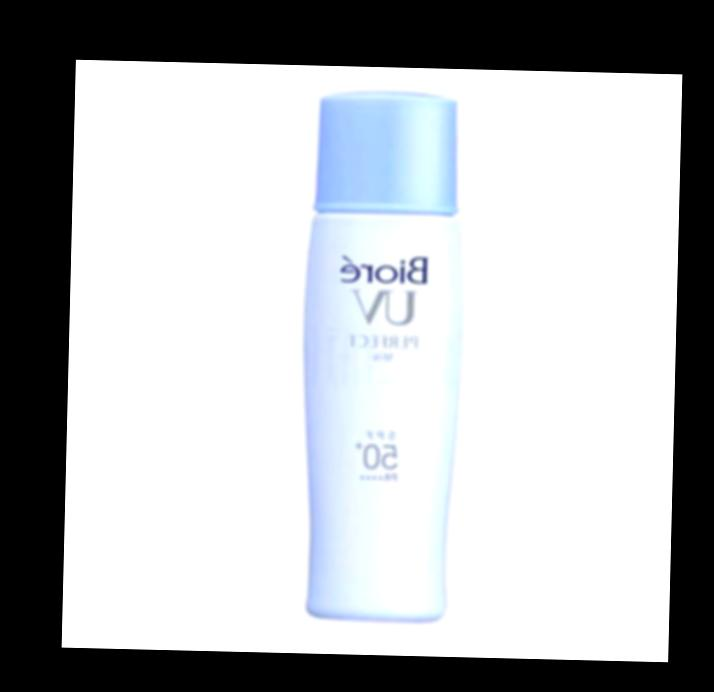cosmetic: (286, 91, 472, 621)
